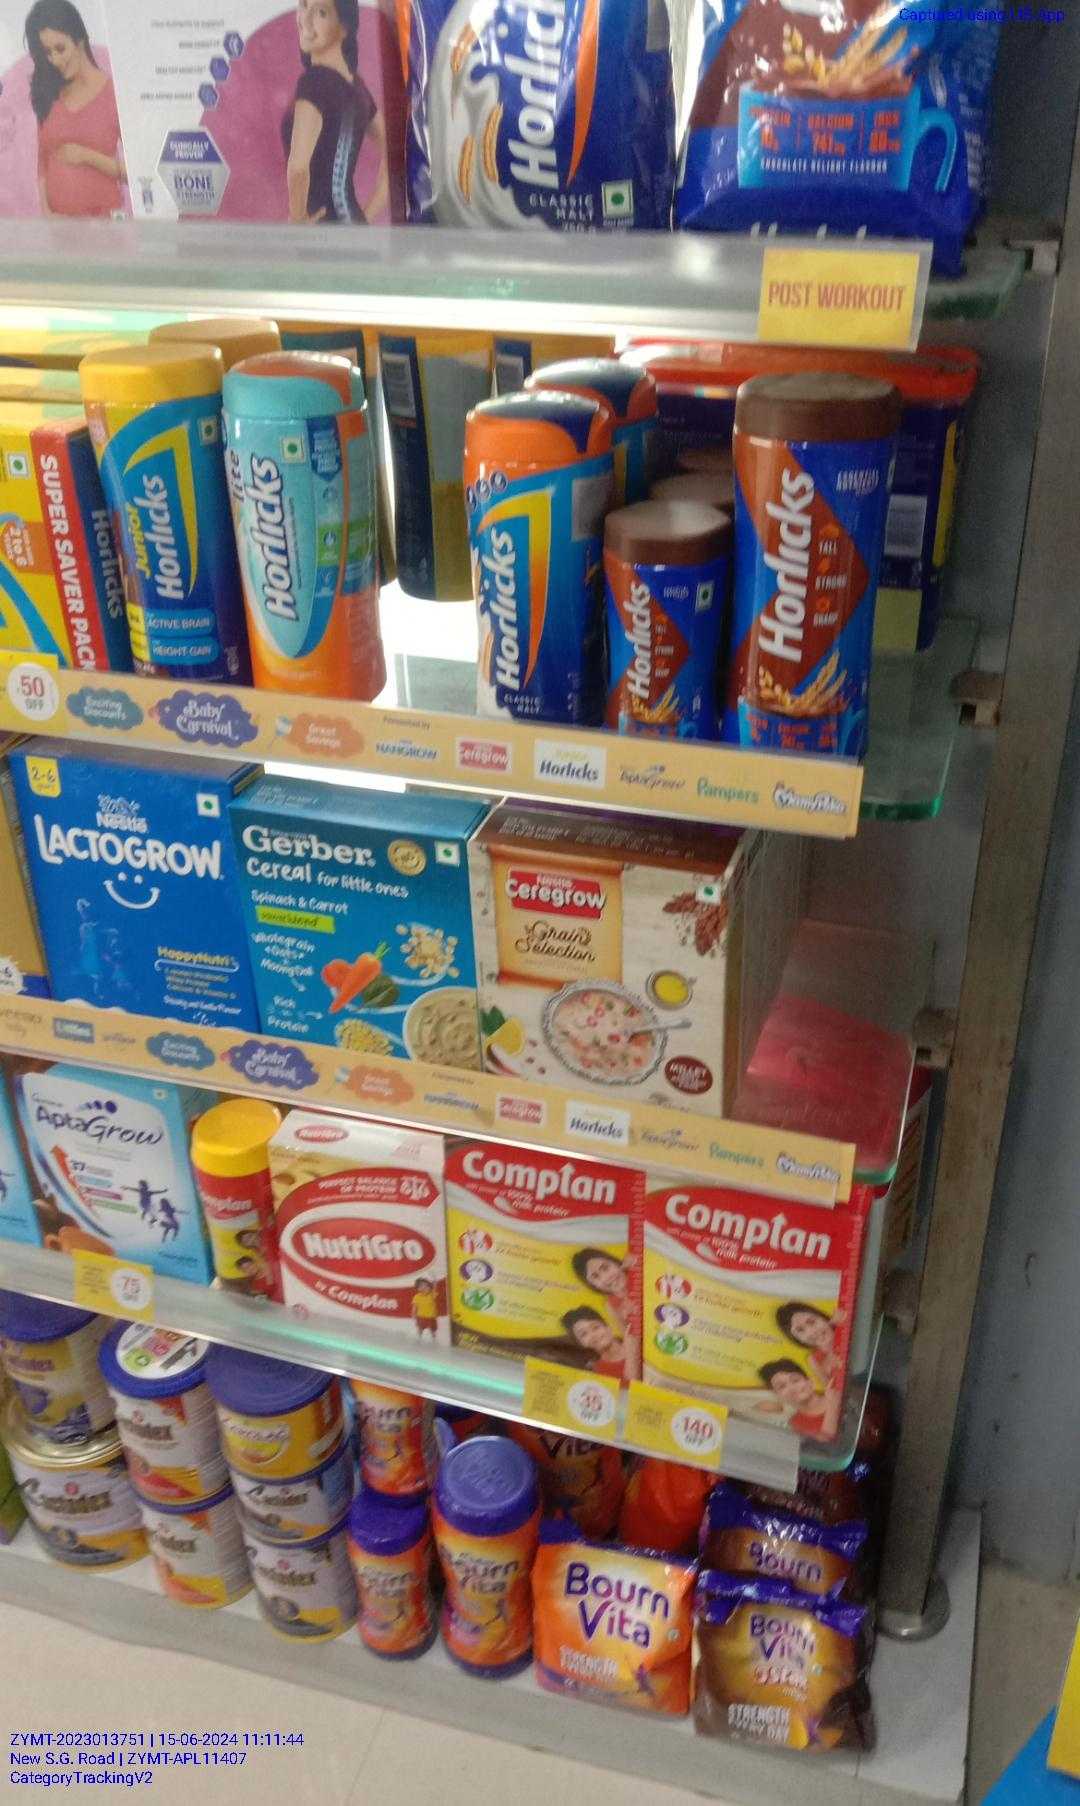BOURN_VITA_200_G_JAR: (347, 1518, 433, 1663)
BOURN_VITA_500_G_JAR: (444, 1465, 531, 1681)
BOURN_VITA_500_G_POUCH: (540, 1528, 685, 1722)
BOURN_VITA_FIVE_STAR_MAGIC_500_G_POUCH: (698, 1578, 869, 1751)
COMPLAN_CHOCOLATE_500_GMS_PACK: (451, 1135, 638, 1372)
COMPLAN_KESAR_BADAM_500_GMS_PACK: (647, 1172, 841, 1415)
HORLICKS_LITE_REGULAR_MALT_500_GM_JAR: (228, 360, 381, 715)
HORLICK_CHOCOLATE_200_G_JAR: (607, 513, 725, 744), (195, 1125, 271, 1305)
HORLICK_CHOCOLATE_500_G_JAR: (734, 386, 888, 755)
HORLICK_CLASSIC_MALT_500_G_JAR: (463, 400, 595, 729)
